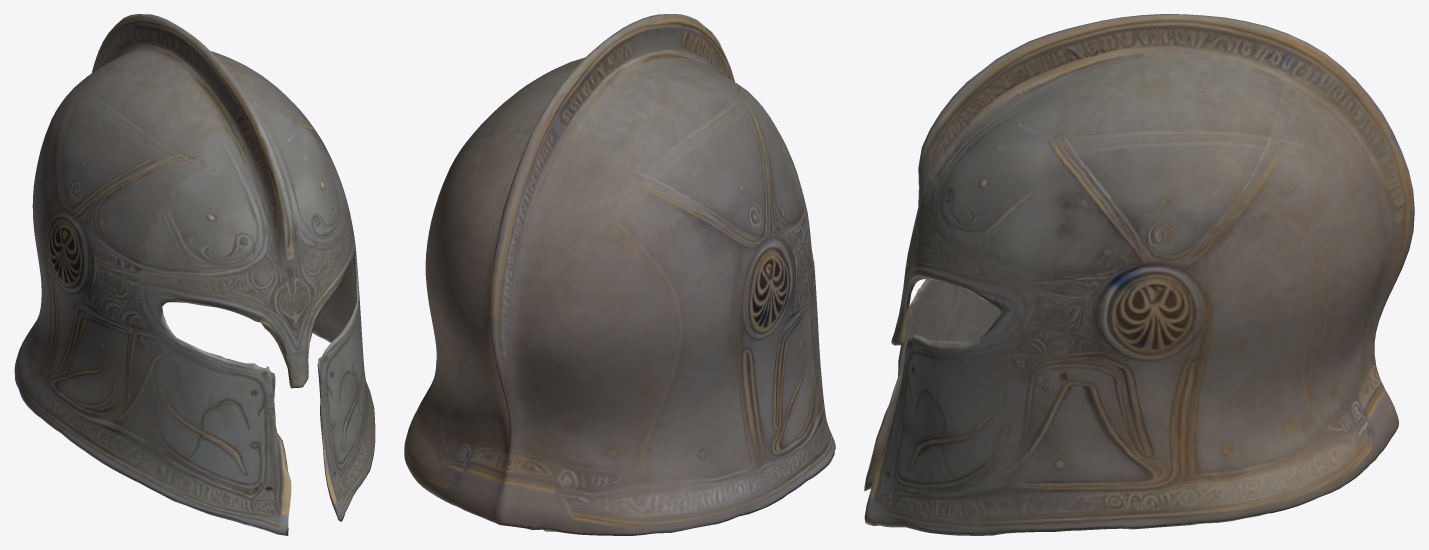
File: Mithril Helmet.glb
The picture shows the model from 3 angles, left to right: view 1: azimuth 30°, elevation 25°; view 2: azimuth 150°, elevation 25°; view 3: azimuth 270°, elevation 25°; orthographic projection. The views are drawn at different scales.
Parts seen in each view (by area): view 1: file1; view 2: file1; view 3: file1.
Part boxes in pixels (x1,y1,x2,y2): file1: [14, 14, 375, 535]; file1: [404, 14, 835, 535]; file1: [864, 14, 1414, 535].
Size of the model in its own units: 1.5 by 1.95 by 1.98.
Materials: 1 (1 with a texture image).
